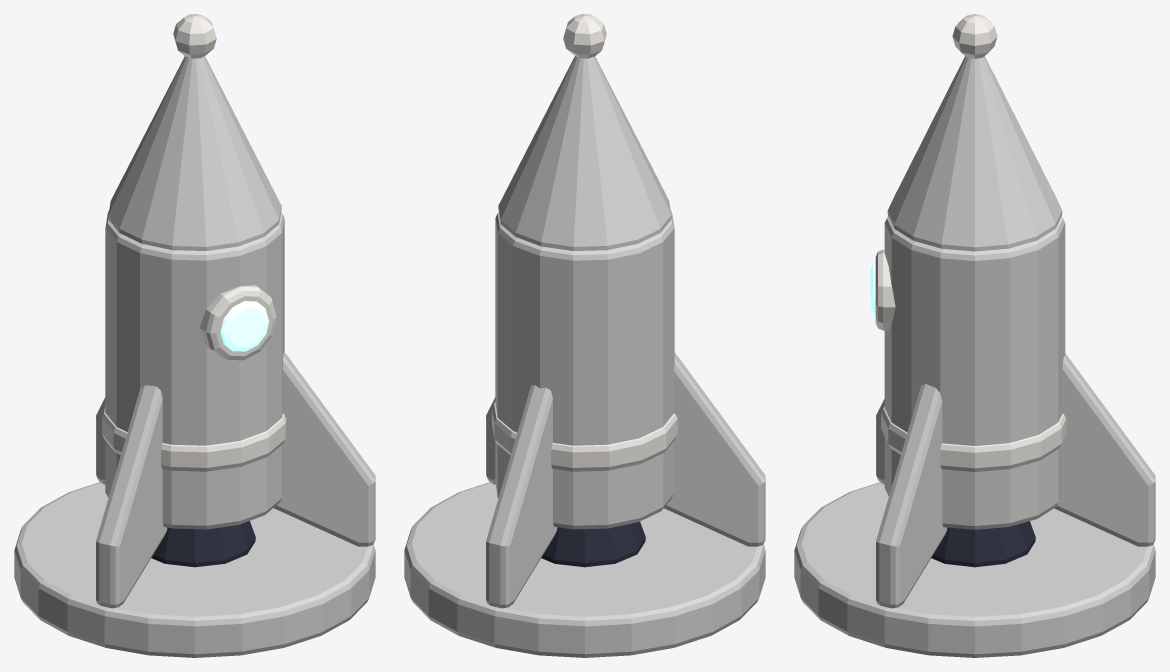
Rendered from rocket.glb.
3 views of the same model, side by side, from view 1: azimuth 30°, elevation 25°; view 2: azimuth 150°, elevation 25°; view 3: azimuth 270°, elevation 25° (orthographic).
Visible parts, largest first — view 1: PawnRocket; view 2: PawnRocket; view 3: PawnRocket.
Part boxes in pixels (x1,y1,x2,y2): PawnRocket: (14, 14, 375, 657); PawnRocket: (404, 14, 765, 657); PawnRocket: (794, 14, 1155, 657).
Size of the model in its own units: 0.4 by 0.695 by 0.4.
